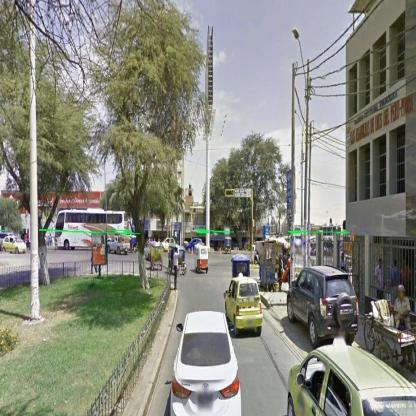Peaton: (395, 285, 413, 367), (375, 259, 387, 303), (391, 259, 398, 305), (174, 247, 179, 294), (279, 257, 284, 291), (288, 254, 292, 290)
Pista: (147, 279, 312, 415)
Vehiculo: (287, 336, 415, 415), (169, 311, 243, 415), (287, 265, 360, 350), (56, 212, 128, 250), (226, 274, 264, 339), (169, 245, 186, 277), (107, 237, 131, 257), (232, 253, 251, 278), (150, 241, 164, 274), (196, 243, 209, 275), (3, 237, 27, 254), (186, 238, 203, 254), (223, 237, 232, 255)
